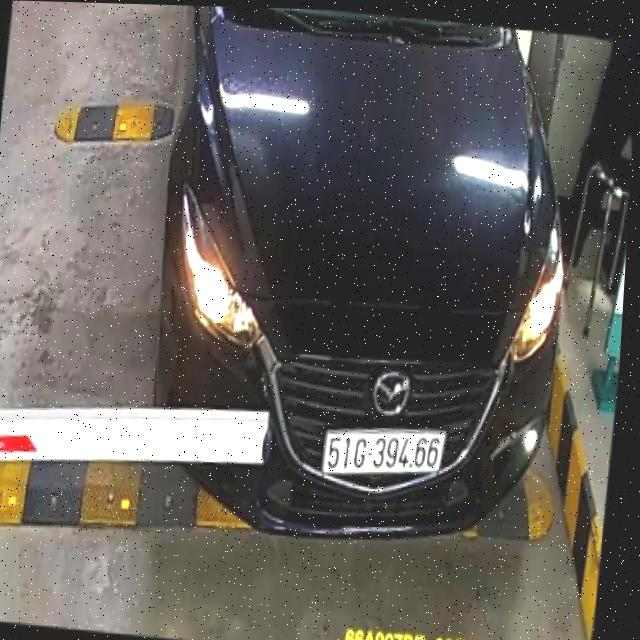car: (137, 5, 594, 559)
plate: (312, 419, 451, 483)
